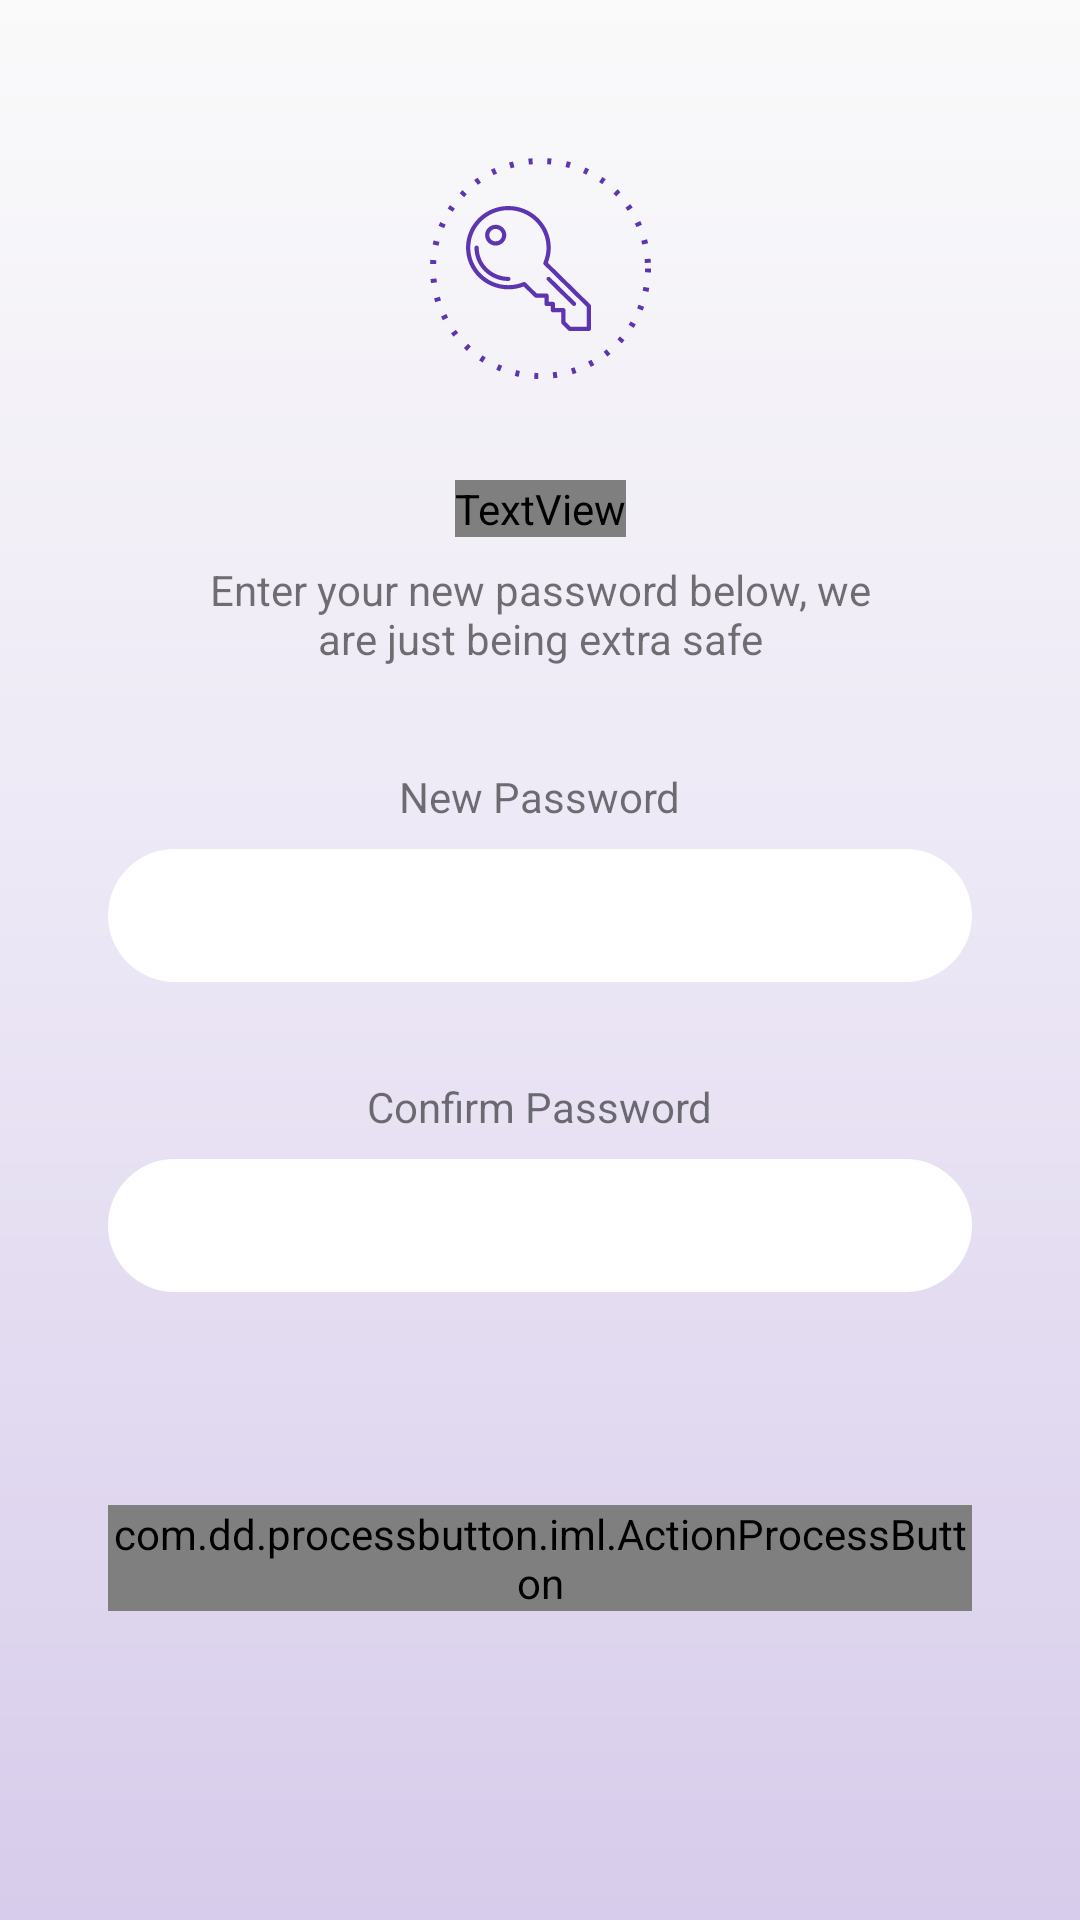

Icons on this 1080 × 1920 Android screen, each with its box as [left=x1, top=y1, right=x2, bottom=y2]:
key circle: [left=430, top=158, right=651, bottom=379]
